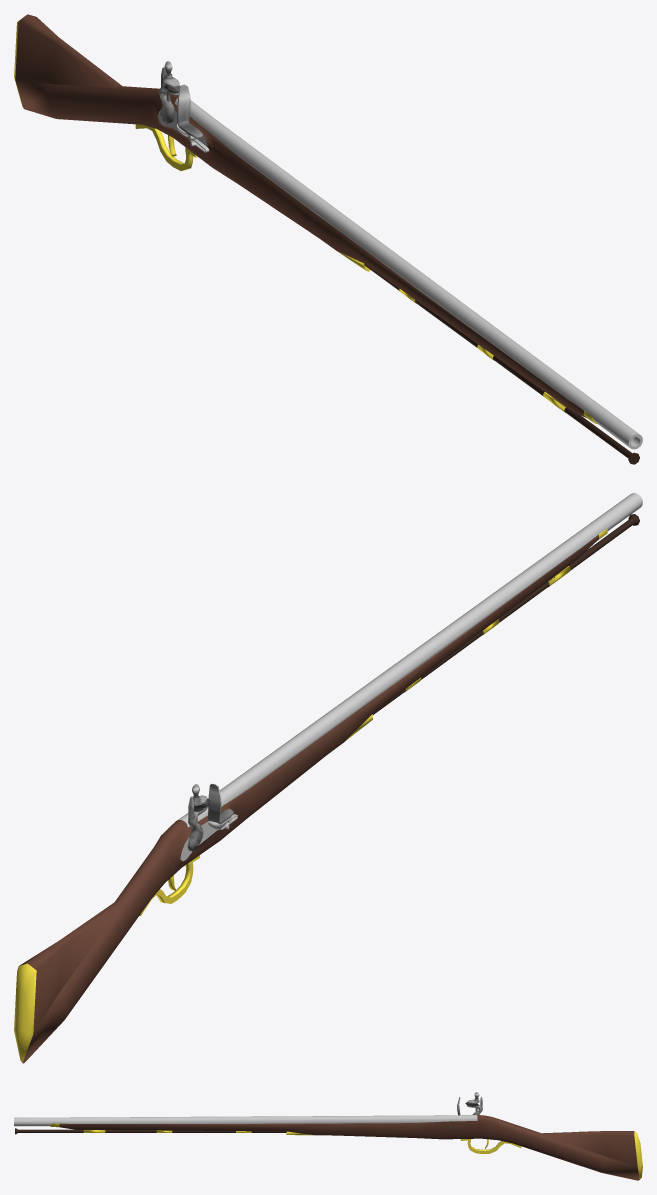
Rendered from Musket.fbx.
The picture shows the model from 3 angles, top to bottom: view 1: azimuth 30°, elevation 25°; view 2: azimuth 150°, elevation 25°; view 3: azimuth 270°, elevation 25°; orthographic projection. The views are drawn at different scales.
Visible parts, largest first — view 1: MusketBody, RammingRod, Cock, Frizzen; view 2: MusketBody, RammingRod, Cock; view 3: MusketBody, RammingRod, Cock.
Part boxes in pixels (<box>): MusketBody: <box>14,14,642,449</box>; RammingRod: <box>364,264,639,464</box>; Cock: <box>159,61,180,124</box>; Frizzen: <box>177,84,203,137</box>; MusketBody: <box>14,493,642,1063</box>; RammingRod: <box>372,514,639,714</box>; Cock: <box>187,784,209,851</box>; MusketBody: <box>14,1115,642,1180</box>; RammingRod: <box>15,1128,286,1134</box>; Cock: <box>465,1092,482,1114</box>.
Bounding box in the file's own units: 0.0841 × 2.91 × 0.433.
